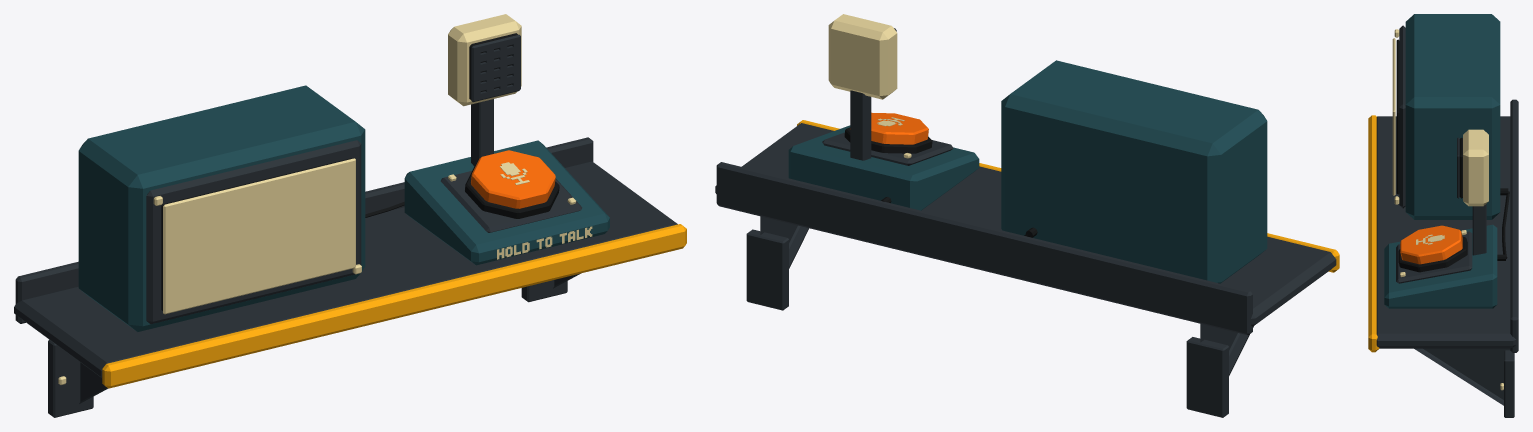
File: RadioConsole.fbx
The picture shows the model from 3 angles, left to right: view 1: azimuth 30°, elevation 25°; view 2: azimuth 150°, elevation 25°; view 3: azimuth 270°, elevation 25°; orthographic projection. The views are drawn at different scales.
Visible parts, largest first — view 1: Speaker, Shelf, MicBase, Microphone, TalkButton, Supports, ButtonMount, Label; view 2: Speaker, Shelf, Supports, MicBase, Microphone, ButtonMount, TalkButton; view 3: Speaker, Shelf, MicBase, Supports, Microphone, TalkButton, ButtonMount, Cable.
Part boxes in pixels (box(x1,y1,x2,y2)): Speaker: box(78, 85, 365, 331); Shelf: box(14, 137, 686, 388); MicBase: box(404, 140, 609, 265); Microphone: box(448, 14, 521, 166); TalkButton: box(471, 150, 555, 208); Supports: box(48, 273, 580, 417); ButtonMount: box(440, 155, 582, 232); Label: box(497, 226, 592, 259); Speaker: box(1001, 60, 1267, 283); Shelf: box(715, 120, 1339, 335); Supports: box(746, 216, 1253, 417); MicBase: box(788, 125, 979, 210); Microphone: box(828, 14, 897, 160); ButtonMount: box(822, 127, 953, 165); TalkButton: box(850, 112, 928, 144); Speaker: box(1392, 14, 1500, 219); Shelf: box(1368, 99, 1518, 352); MicBase: box(1384, 224, 1497, 308); Supports: box(1414, 348, 1514, 417); Microphone: box(1457, 129, 1488, 255); TalkButton: box(1400, 225, 1462, 264); ButtonMount: box(1396, 230, 1472, 283); Cable: box(1497, 188, 1509, 260).
Size of the model in its own units: 172 by 86.75 by 49.3.
Materials: 1 (1 with a texture image).
